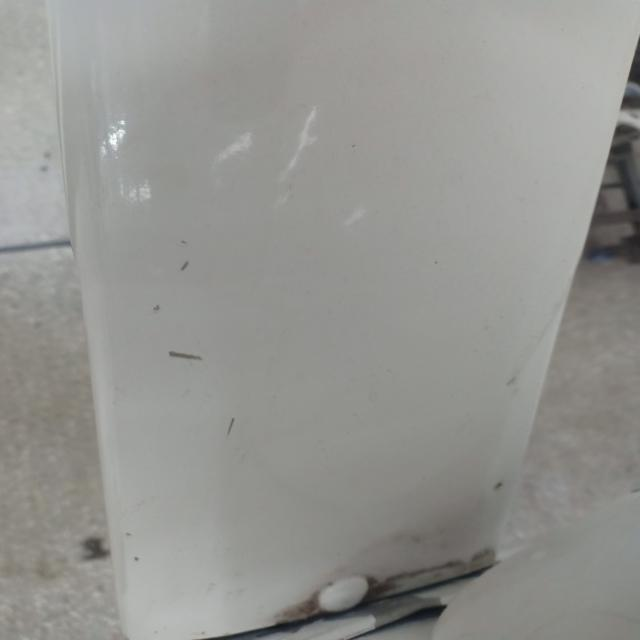Rupture: (131, 218, 280, 470), (265, 524, 497, 640)
